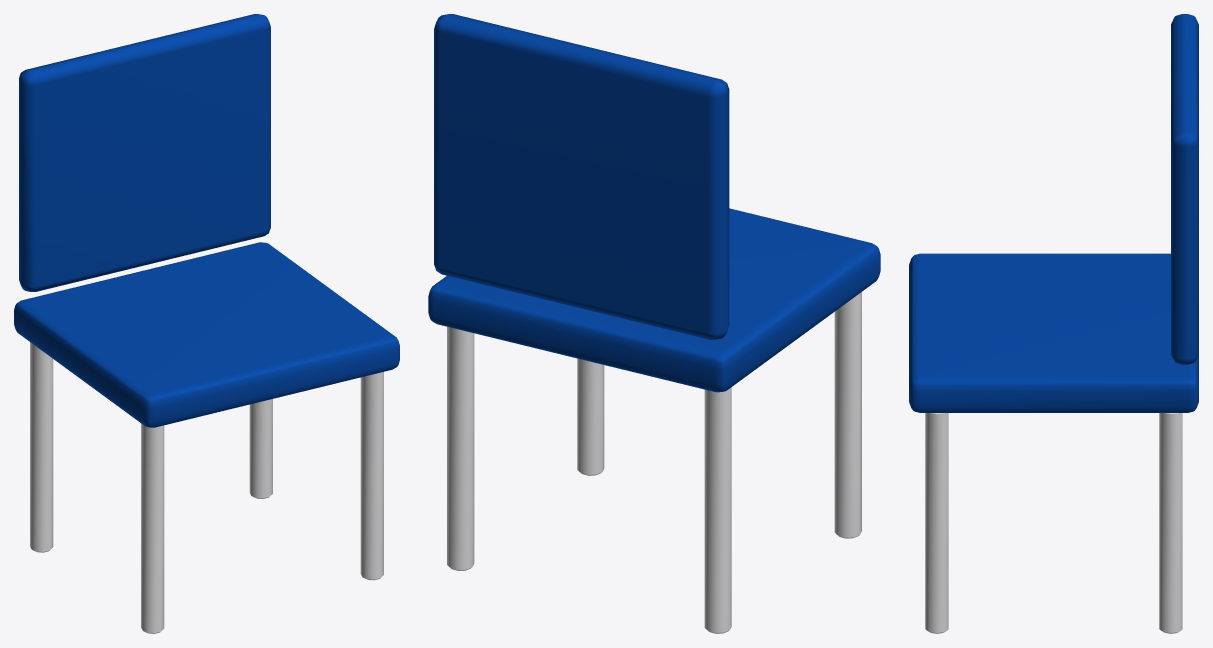
The model's file is sample-oversized-chair.glb.
3 renders of one model, left to right at view 1: azimuth 30°, elevation 25°; view 2: azimuth 150°, elevation 25°; view 3: azimuth 270°, elevation 25°, orthographic. The views are drawn at different scales.
Visible parts, largest first — view 1: sample-oversized-chair; view 2: sample-oversized-chair; view 3: sample-oversized-chair.
Boxes of the visible parts, x1,y1,x2,y2 form: sample-oversized-chair: (14, 14, 399, 633); sample-oversized-chair: (428, 14, 880, 633); sample-oversized-chair: (909, 14, 1198, 633).
Size of the model in its own units: 2.83 by 5 by 2.63.
